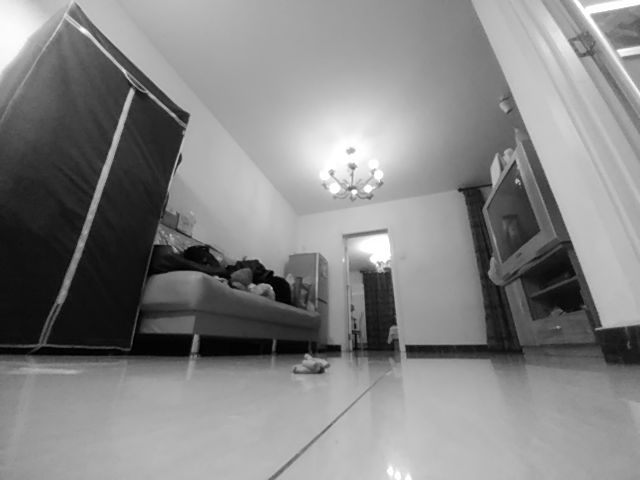curtain: (462, 185, 522, 355), (360, 268, 402, 353)
pet feces: (293, 354, 331, 375)
